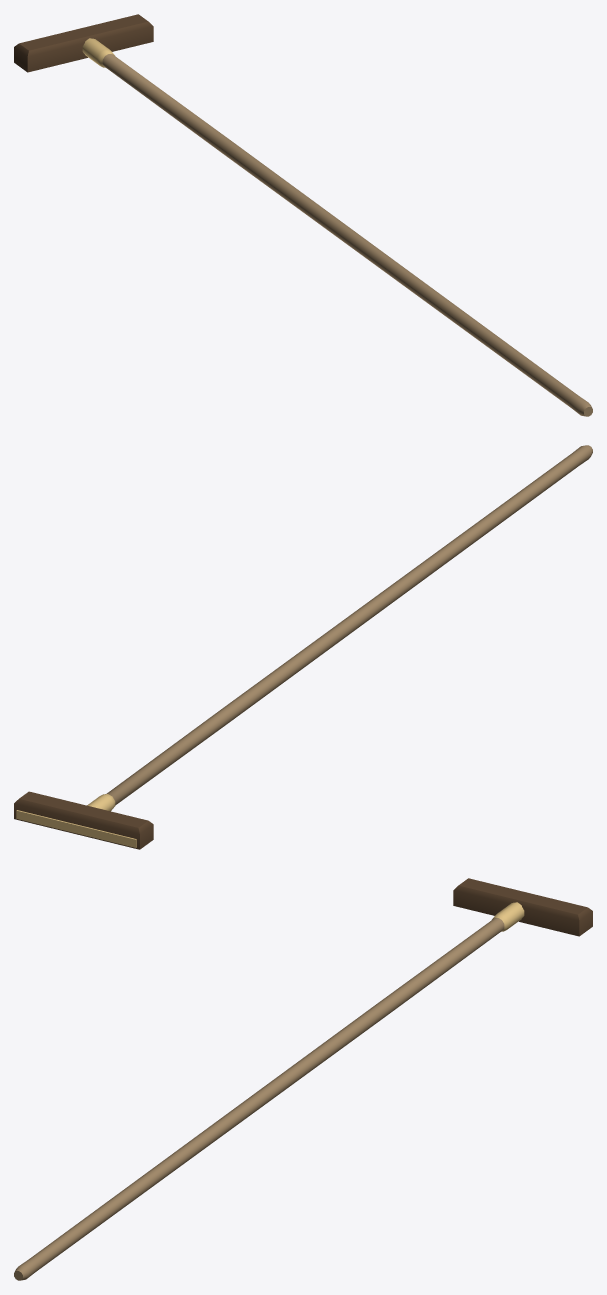
The model's file is rake.glb.
The picture shows the model from 3 angles, top to bottom: view 1: azimuth 30°, elevation 25°; view 2: azimuth 150°, elevation 25°; view 3: azimuth 330°, elevation 25°; orthographic projection.
Visible parts, largest first — view 1: rake; view 2: rake; view 3: rake.
Boxes of the visible parts, x1,y1,x2,y2 form: rake: [14, 14, 592, 416]; rake: [14, 445, 592, 849]; rake: [14, 878, 592, 1280].
Size of the model in its own units: 0.16 by 0.024 by 1.13.
